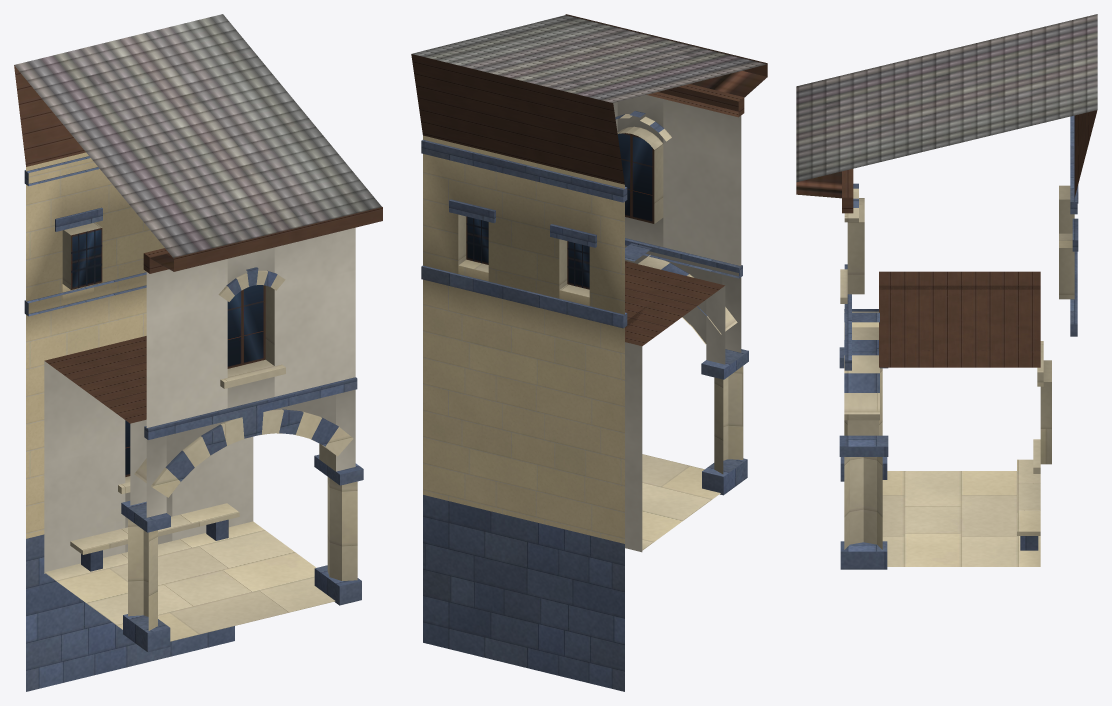
The model's file is bay_cl_arch.gltf.
The picture shows the model from 3 angles, left to right: view 1: azimuth 30°, elevation 25°; view 2: azimuth 150°, elevation 25°; view 3: azimuth 270°, elevation 25°; orthographic projection. The views are drawn at different scales.
Visible parts, largest first — view 1: bay_cl_arch; view 2: bay_cl_arch; view 3: bay_cl_arch.
Boxes of the visible parts, x1=… form: bay_cl_arch: x1=14, y1=14, x2=382, y2=691; bay_cl_arch: x1=411, y1=14, x2=767, y2=691; bay_cl_arch: x1=796, y1=14, x2=1097, y2=569.
Size of the model in its own units: 4.14 by 11.31 by 5.3.
3 materials, 3 textured.
